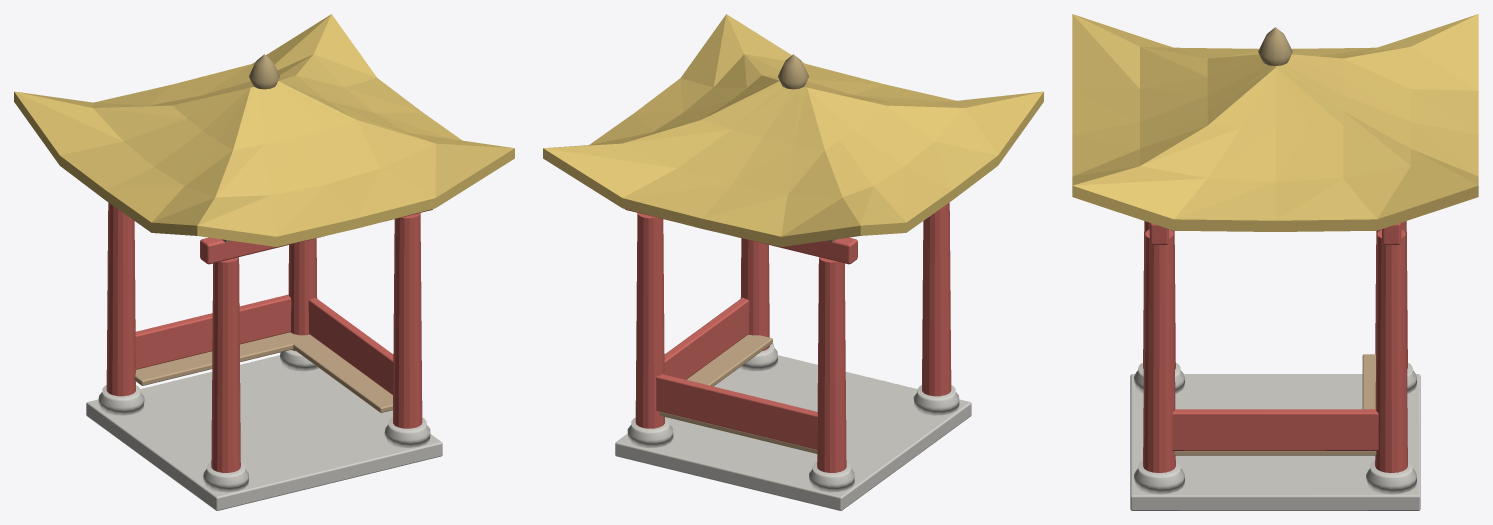
Rendered from covered-walkway-corner.glb.
3 renders of one model, left to right at view 1: azimuth 30°, elevation 25°; view 2: azimuth 150°, elevation 25°; view 3: azimuth 270°, elevation 25°, orthographic. The views are drawn at different scales.
Visible parts, largest first — view 1: covered-walkway-corner; view 2: covered-walkway-corner; view 3: covered-walkway-corner.
Part boxes in pixels (<box>): covered-walkway-corner: <box>14,14,514,510</box>; covered-walkway-corner: <box>543,14,1043,510</box>; covered-walkway-corner: <box>1072,14,1478,510</box>.
Bounding box in the file's own units: 4.2 × 4.83 × 4.2.
